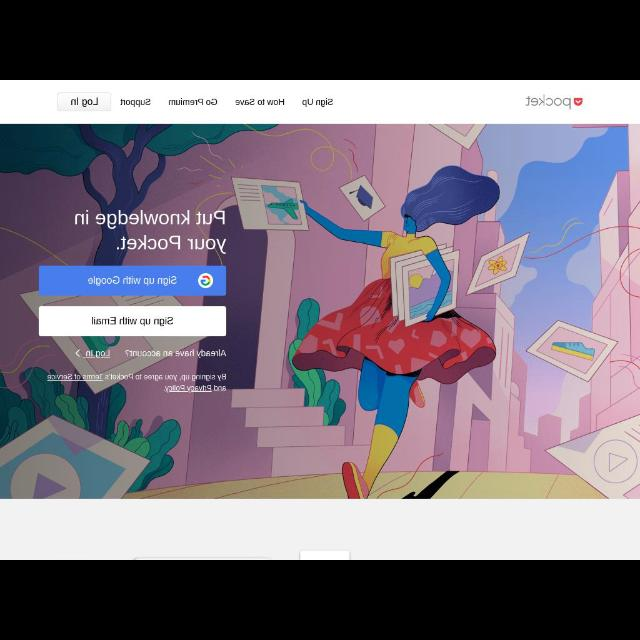backgroundimage: (1, 124, 639, 498)
icon: (73, 347, 83, 357)
image: (525, 96, 583, 110), (198, 274, 214, 288)
text: (76, 212, 226, 254), (46, 372, 226, 396), (124, 349, 226, 359), (91, 316, 173, 328), (87, 276, 177, 286), (235, 95, 285, 108), (169, 97, 219, 107), (300, 97, 334, 109), (85, 349, 111, 359), (120, 98, 152, 106), (70, 98, 98, 106)
textbutton: (39, 306, 225, 336), (40, 266, 226, 296), (57, 95, 109, 112)
toolbar: (1, 80, 639, 124)
